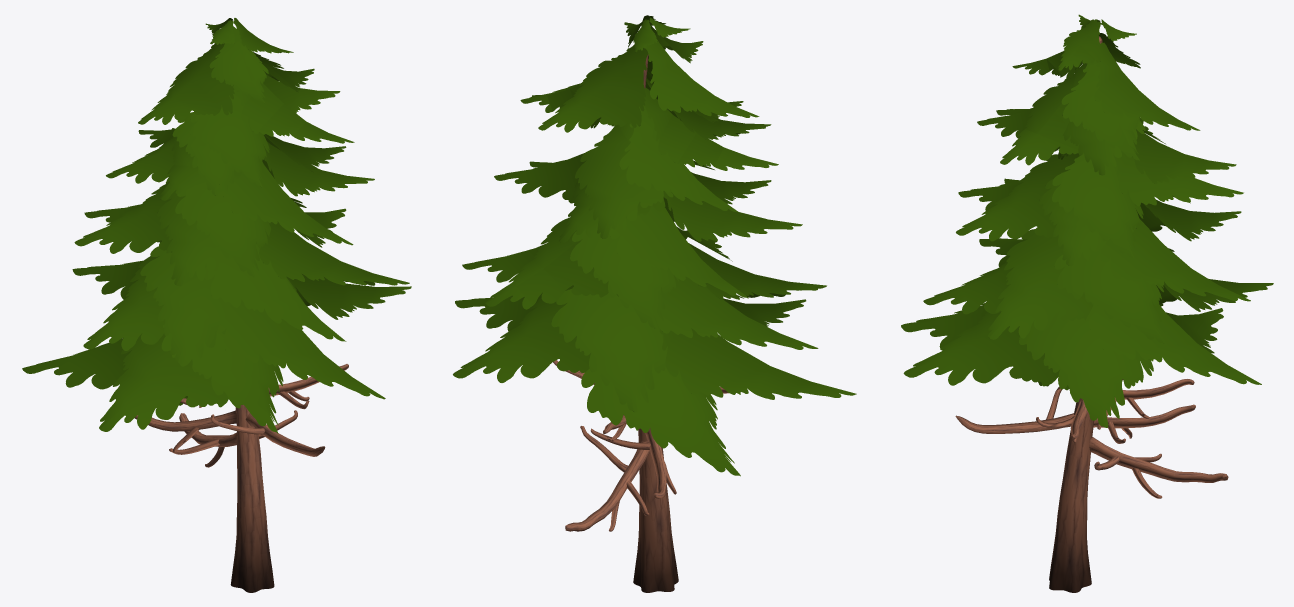
File: Pine_1.gltf
3 views of the same model, side by side, from view 1: azimuth 30°, elevation 25°; view 2: azimuth 150°, elevation 25°; view 3: azimuth 270°, elevation 25° (orthographic). The views are drawn at different scales.
Visible parts, largest first — view 1: Pine_1; view 2: Pine_1; view 3: Pine_1.
Part boxes in pixels (left/top/right/bottom): Pine_1: left=22, top=18, right=411, bottom=592; Pine_1: left=453, top=15, right=856, bottom=592; Pine_1: left=901, top=14, right=1273, bottom=592.
Bounding box in the file's own units: 4.94 × 7.32 × 4.54.
Materials: 2 (2 with a texture image).
